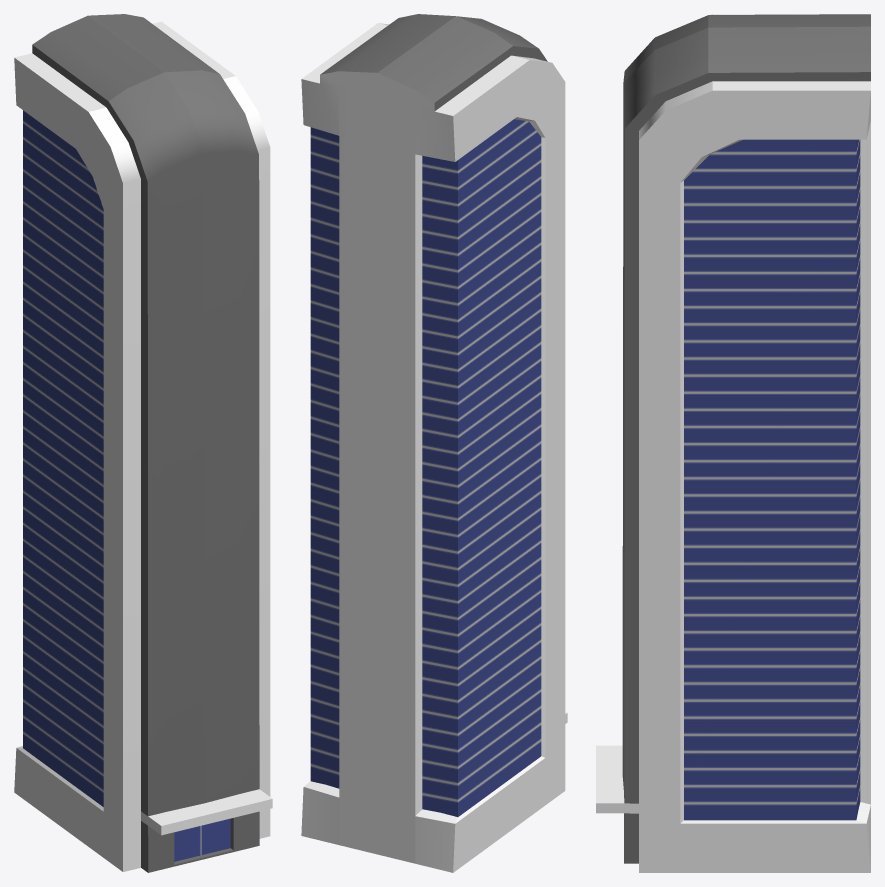
The model's file is Building1_Asset.fbx.
3 renders of one model, left to right at view 1: azimuth 30°, elevation 25°; view 2: azimuth 150°, elevation 25°; view 3: azimuth 270°, elevation 25°, orthographic. The views are drawn at different scales.
Parts seen in each view (by area): view 1: Building1_Asset; view 2: Building1_Asset; view 3: Building1_Asset.
Part boxes in pixels (left/top/right/bottom): Building1_Asset: left=14, top=14, right=272, bottom=872; Building1_Asset: left=301, top=14, right=567, bottom=872; Building1_Asset: left=596, top=14, right=870, bottom=872.
Size of the model in its own units: 12.03 by 59.21 by 18.26.
